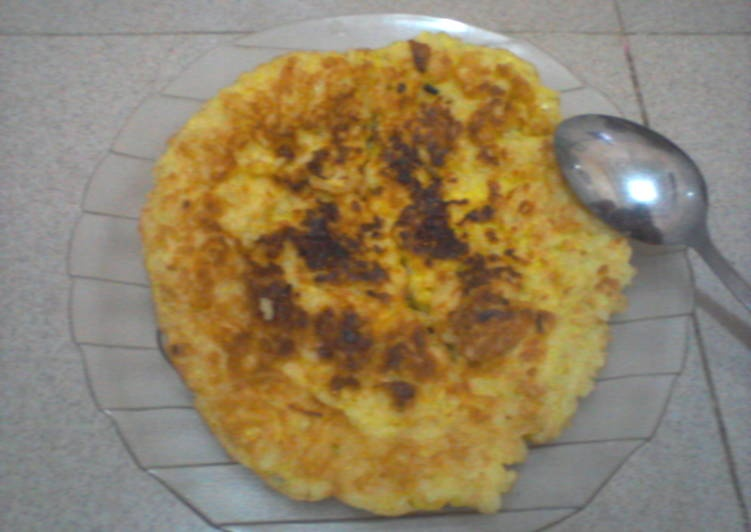kerak_telor: (127, 31, 640, 520)
